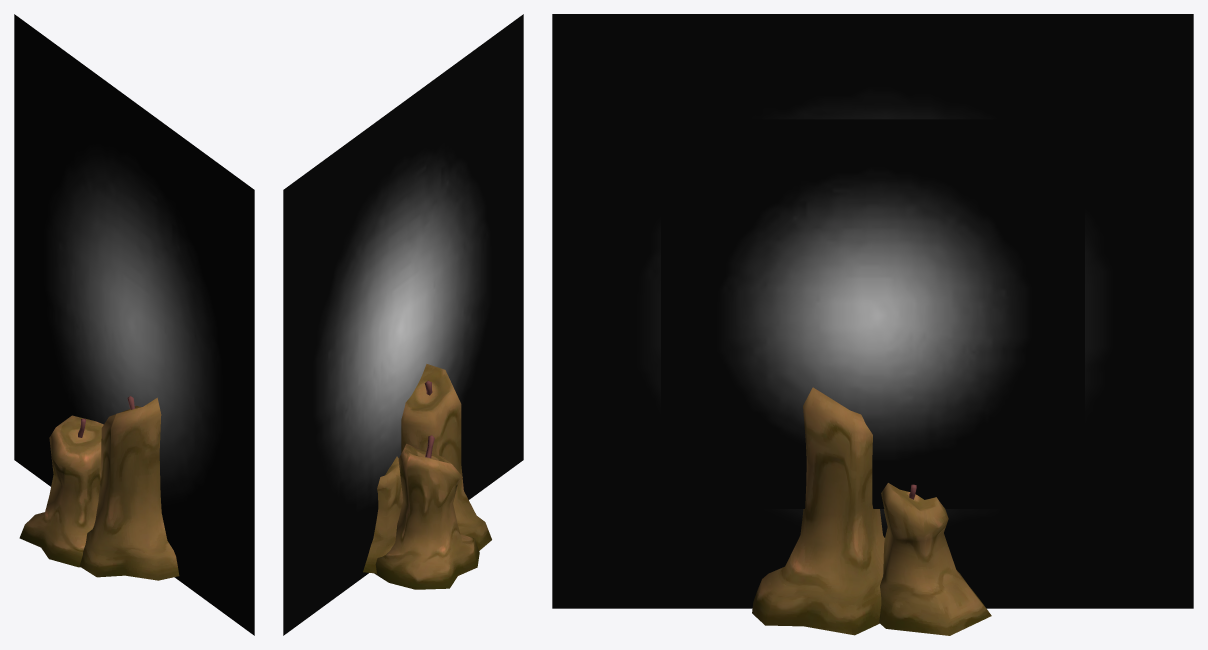
3 renders of one model, left to right at view 1: azimuth 30°, elevation 25°; view 2: azimuth 150°, elevation 25°; view 3: azimuth 270°, elevation 25°, orthographic. The views are drawn at different scales.
Bounding box in the file's own units: 0.4867 × 1.55 × 1.51.
Materials: 4 (4 with a texture image).
